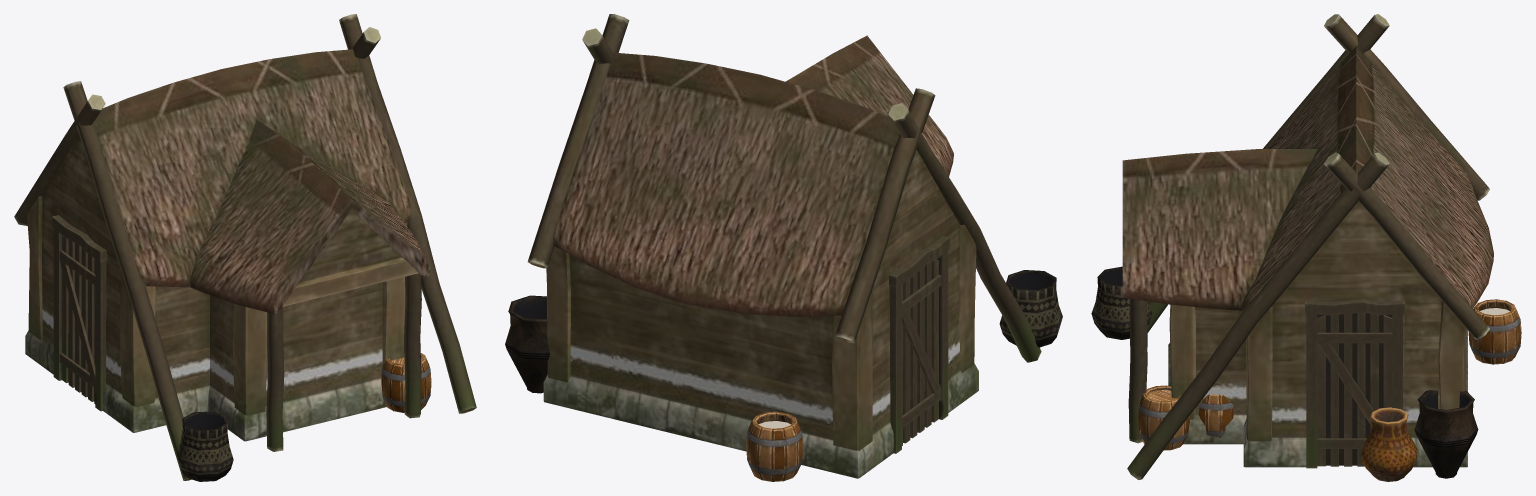
3 renders of one model, left to right at view 1: azimuth 30°, elevation 25°; view 2: azimuth 150°, elevation 25°; view 3: azimuth 270°, elevation 25°, orthographic. The views are drawn at different scales.
Size of the model in its own units: 4.63 by 4.13 by 4.94.
Materials: 5 (4 with a texture image).
